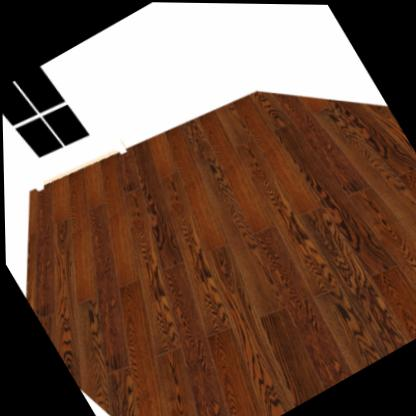Wooden floor: (24, 91, 416, 416)
